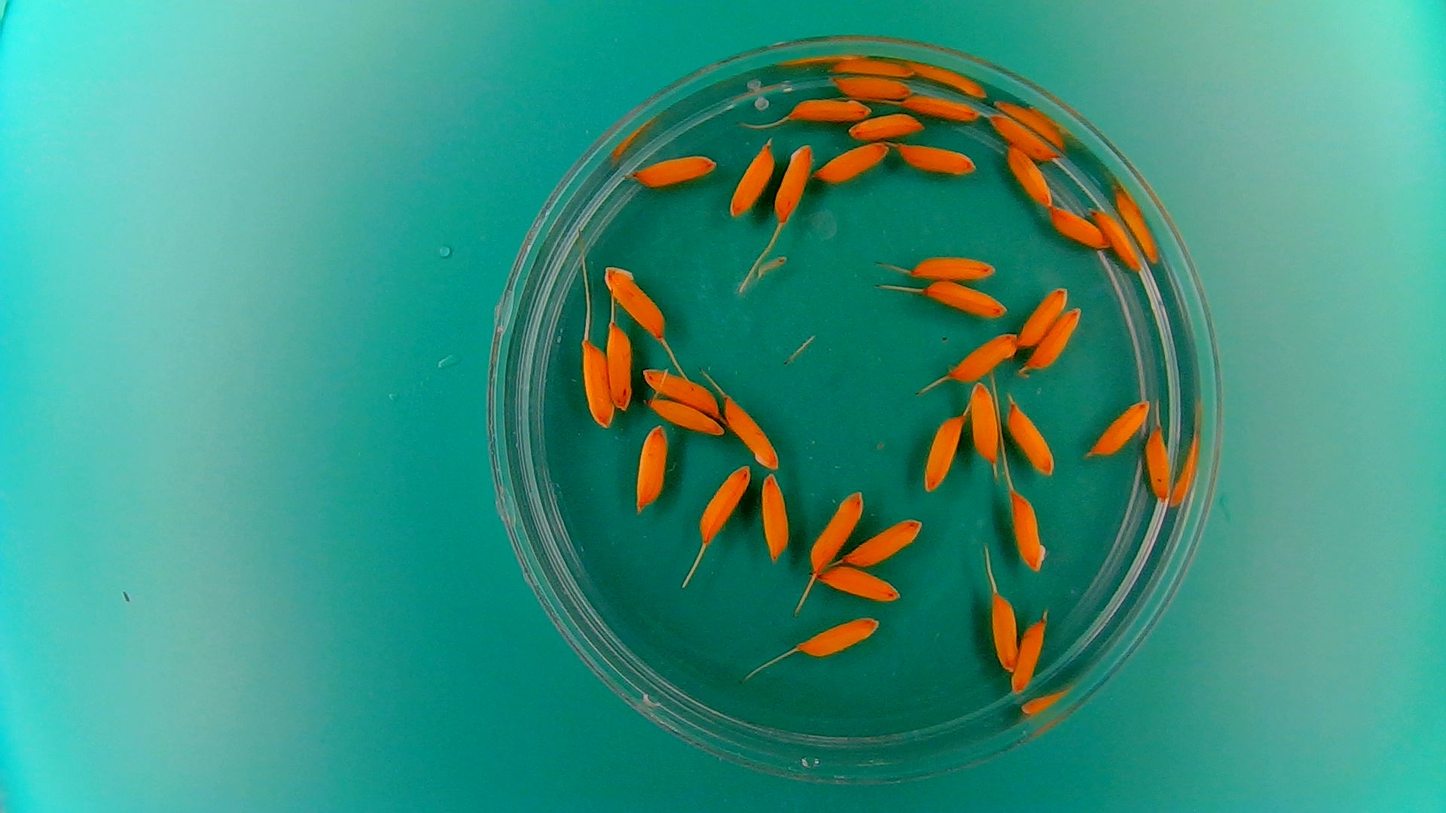no: (601, 260, 667, 339), (807, 487, 865, 574), (696, 461, 753, 544), (721, 392, 781, 470), (1002, 394, 1057, 477), (841, 516, 926, 568), (639, 364, 724, 415), (984, 109, 1063, 162), (795, 612, 882, 659), (1086, 397, 1151, 459), (921, 280, 1014, 322), (727, 139, 776, 218), (920, 410, 966, 493), (1091, 204, 1146, 273), (771, 139, 815, 225), (629, 148, 718, 190), (577, 333, 615, 430), (948, 331, 1018, 383), (1027, 306, 1083, 370), (1009, 490, 1051, 575), (643, 393, 725, 436), (816, 563, 902, 604), (813, 139, 891, 184), (1016, 284, 1069, 349), (1008, 615, 1050, 696), (633, 421, 670, 512), (1004, 142, 1054, 209), (895, 139, 978, 177), (758, 470, 792, 561), (1045, 202, 1108, 250), (967, 379, 1002, 464), (605, 318, 635, 413), (909, 251, 997, 283), (898, 90, 983, 123), (786, 93, 872, 124), (988, 592, 1020, 674), (847, 109, 926, 142), (834, 70, 914, 102), (1142, 424, 1174, 503)
